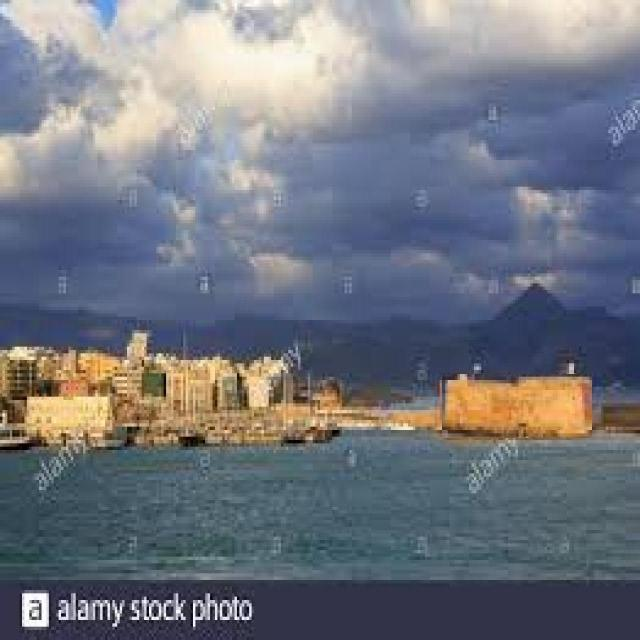Kules: (443, 375, 593, 439)
